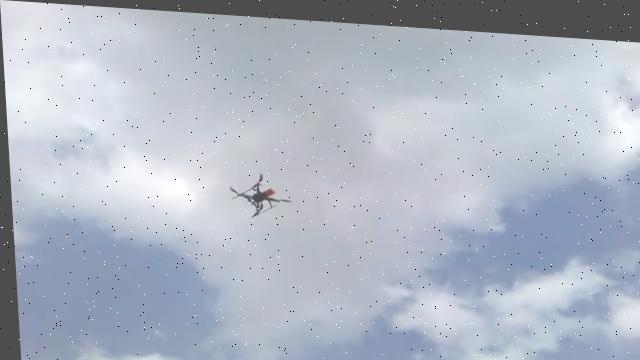drone: (228, 164, 293, 217)
